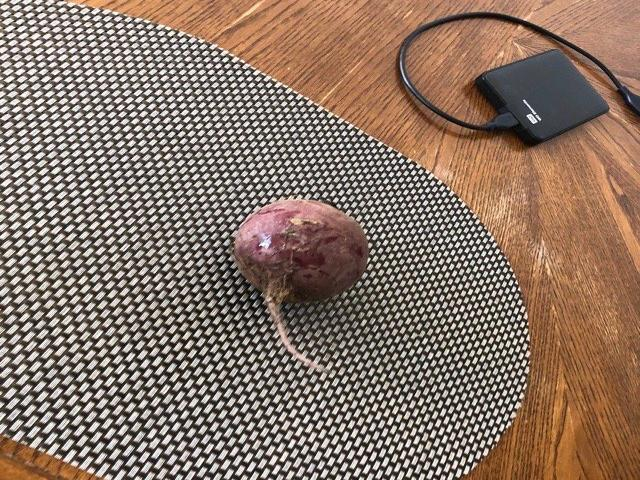beet: (233, 200, 367, 374)
